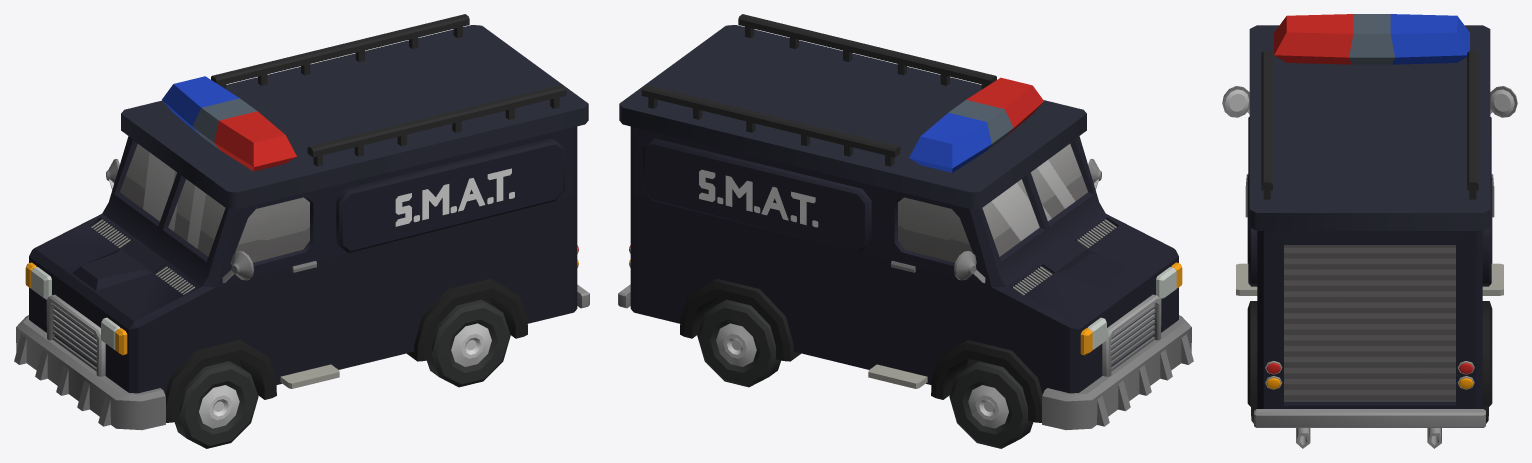
Rendered from SMAT_1.fbx.
3 views of the same model, side by side, from view 1: azimuth 30°, elevation 25°; view 2: azimuth 150°, elevation 25°; view 3: azimuth 270°, elevation 25° (orthographic). The views are drawn at different scales.
Parts seen in each view (by area): view 1: SMAT_1, RL, FL; view 2: SMAT_1, RR, FR; view 3: SMAT_1.
Boxes of the visible parts, box(x1,y1,x2,y2) form: SMAT_1: box(14, 14, 589, 430); RL: box(426, 299, 510, 387); FL: box(174, 361, 258, 448); SMAT_1: box(618, 14, 1193, 430); RR: box(697, 299, 781, 387); FR: box(949, 361, 1033, 448); SMAT_1: box(1222, 14, 1517, 448).
Size of the model in its own units: 406 by 226 by 203.
